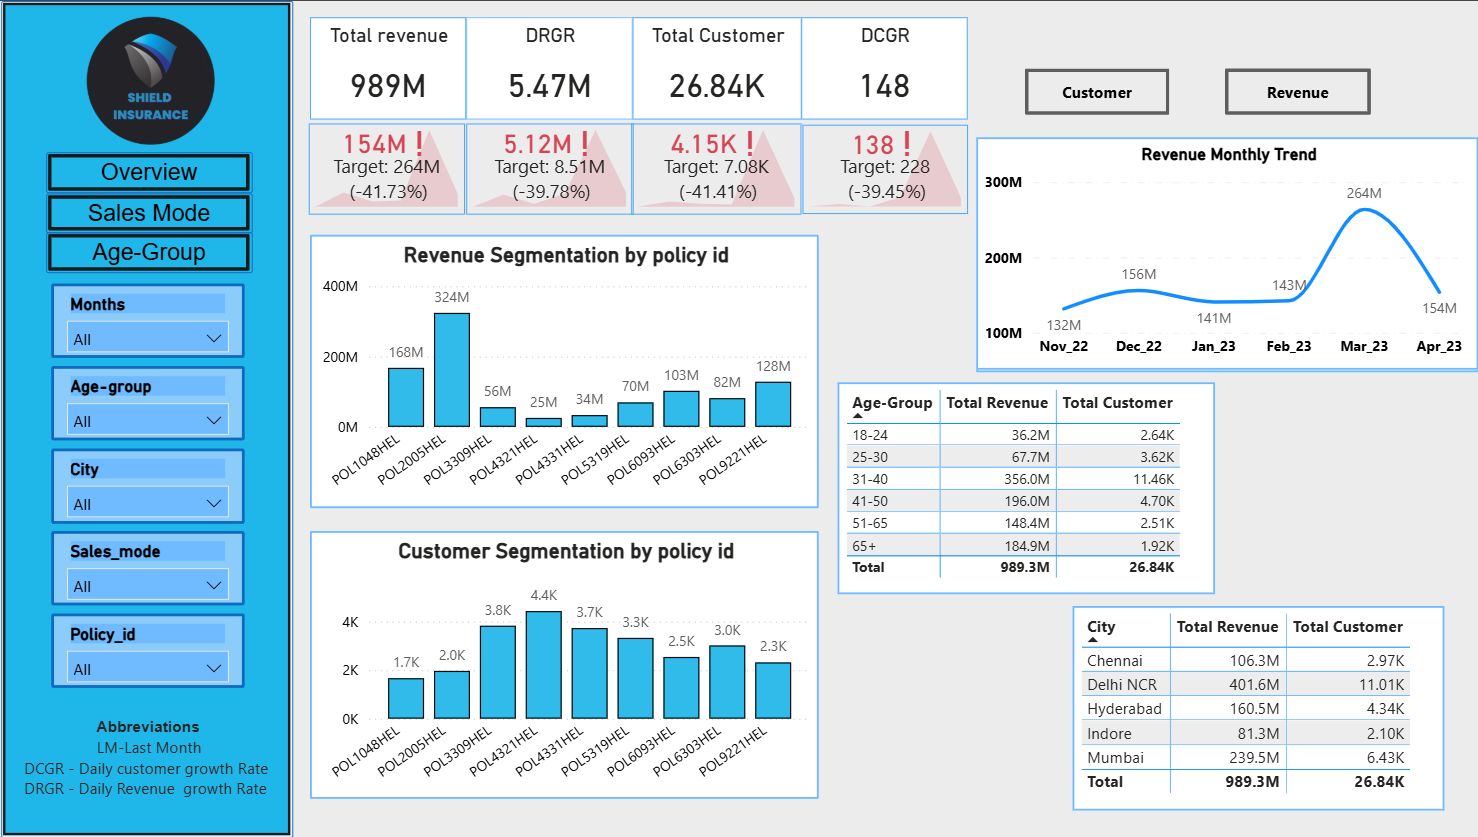

Layout of this report page (visuals, bound fields, positions):
{"tool":"powerbi","page":{"name":"Overview","canvas":[1280,720],"ordinal":1},"visuals":[{"type":"shape","box":[10,0,251,720],"z":0},{"type":"image","box":[46.5,8.6,183.4,119.8],"z":1000},{"type":"actionButton","box":[48.9,129.6,177.3,35.5],"z":2000},{"type":"actionButton","box":[48.9,165.1,177.3,34.2],"z":3000},{"type":"actionButton","box":[48.9,199.3,177.3,35.5],"z":4000},{"type":"slicer","fields":{"Values":["dim_date.mmm_yy"]},"box":[53,243,166,64],"z":5000},{"type":"slicer","fields":{"Values":["dim_customer.AgeGroup"]},"box":[53,313.8,166,64],"z":6000},{"type":"slicer","fields":{"Values":["dim_customer.city"]},"box":[53,384.5,166,65],"z":7000},{"type":"slicer","fields":{"Values":["fact_premiums.sales_mode"]},"box":[53,456.2,166,64],"z":8000},{"type":"slicer","fields":{"Values":["fact_premiums.policy_id"]},"box":[53,527,166,64],"z":9000},{"type":"textbox","box":[16.9,609.3,237.7,86.9],"z":10000},{"type":"card","title":"Total revenue","fields":{"Values":["Key metrics.Total Revenue"]},"box":[275.1,13.5,134.5,88],"z":11000},{"type":"card","title":"DRGR","fields":{"Values":["Key metrics.DRGR"]},"box":[409.6,13.5,143.1,88],"z":12000},{"type":"card","title":"Total Customer","fields":{"Values":["Key metrics.Total Customer"]},"box":[552.7,13.5,145.5,88],"z":13000},{"type":"card","title":"DCGR","fields":{"Values":["Key metrics.DCGR"]},"box":[698.2,13.5,143.1,88],"z":14000},{"type":"tableEx","fields":{"Values":["dim_customer.AgeGroup","Key metrics.Total Revenue","Key metrics.Total Customer"]},"box":[728.7,328.2,324.5,182.2],"z":15000},{"type":"clusteredColumnChart","title":"Revenue Segmentation by policy id","fields":{"Category":["fact_premiums.policy_id"],"Y":["Key metrics.Total Revenue"]},"box":[275.1,201.5,437.9,235.3],"z":16000},{"type":"clusteredColumnChart","title":"Customer Segmentation by policy id","fields":{"Category":["fact_premiums.policy_id"],"Y":["Key metrics.Total Customer"]},"box":[275.1,456,437.9,230.4],"z":17000},{"type":"tableEx","fields":{"Values":["dim_customer.city","Key metrics.Total Revenue","Key metrics.Total Customer"]},"box":[931.4,520,319.7,176.1],"z":18000},{"type":"lineChart","title":"Customer Monthly Trend","fields":{"Y":["Key metrics.Total Customer"],"Category":["DateTable.YearMonth"]},"box":[848.1,119.4,431.9,200.3],"z":19000},{"type":"lineChart","title":"Revenue Monthly Trend","fields":{"Y":["Key metrics.Total Revenue"],"Category":["DateTable.YearMonth"]},"box":[848.1,117,431.9,200.3],"z":20000},{"type":"actionButton","title":"Button_Customer","box":[890.4,57.9,124.3,39.8],"z":21000},{"type":"actionButton","title":"fgwe","box":[1062.9,57.9,125.5,39.8],"z":22000},{"type":"kpi","fields":{"Indicator":["Key metrics.Total Revenue"],"Goal":["Key metrics.LM Revenue"],"TrendLine":["dim_date.mmm_yy"]},"box":[274.6,105,134.6,78.1],"z":23000},{"type":"kpi","fields":{"Goal":["Key metrics.LM DRGR"],"TrendLine":["dim_date.mmm_yy"],"Indicator":["Key metrics.DRGR"]},"box":[409.3,105,144,78.1],"z":24000},{"type":"kpi","fields":{"Goal":["Key metrics.LM Customer"],"TrendLine":["dim_date.mmm_yy"],"Indicator":["Key metrics.Total Customer"]},"box":[552,105,146.7,78.1],"z":25000},{"type":"kpi","fields":{"Goal":["Key metrics.LM DCGR"],"TrendLine":["dim_date.mmm_yy"],"Indicator":["Key metrics.DCGR"]},"box":[698.7,106.4,142.7,76.7],"z":26000}]}

Visuals, with their boxes in screenshot pixels (x1, y1, x2, y2), scaled from the page's 1280x720 canvas onto the 1478x837 screenshot:
shape: {"x1": 12, "y1": 0, "x2": 301, "y2": 836}
image: {"x1": 54, "y1": 10, "x2": 265, "y2": 149}
actionButton: {"x1": 56, "y1": 151, "x2": 261, "y2": 192}
actionButton: {"x1": 56, "y1": 192, "x2": 261, "y2": 232}
actionButton: {"x1": 56, "y1": 232, "x2": 261, "y2": 273}
slicer - dim_date.mmm_yy: {"x1": 61, "y1": 282, "x2": 253, "y2": 357}
slicer - dim_customer.AgeGroup: {"x1": 61, "y1": 365, "x2": 253, "y2": 439}
slicer - dim_customer.city: {"x1": 61, "y1": 447, "x2": 253, "y2": 523}
slicer - fact_premiums.sales_mode: {"x1": 61, "y1": 530, "x2": 253, "y2": 605}
slicer - fact_premiums.policy_id: {"x1": 61, "y1": 613, "x2": 253, "y2": 687}
textbox: {"x1": 20, "y1": 708, "x2": 294, "y2": 809}
"Total revenue" card: {"x1": 318, "y1": 16, "x2": 473, "y2": 118}
"DRGR" card: {"x1": 473, "y1": 16, "x2": 638, "y2": 118}
"Total Customer" card: {"x1": 638, "y1": 16, "x2": 806, "y2": 118}
"DCGR" card: {"x1": 806, "y1": 16, "x2": 971, "y2": 118}
tableEx - dim_customer.AgeGroup x Key metrics.Total Revenue: {"x1": 841, "y1": 382, "x2": 1216, "y2": 593}
"Revenue Segmentation by policy id" clusteredColumnChart: {"x1": 318, "y1": 234, "x2": 823, "y2": 508}
"Customer Segmentation by policy id" clusteredColumnChart: {"x1": 318, "y1": 530, "x2": 823, "y2": 798}
tableEx - dim_customer.city x Key metrics.Total Revenue: {"x1": 1075, "y1": 604, "x2": 1445, "y2": 809}
"Customer Monthly Trend" lineChart: {"x1": 979, "y1": 139, "x2": 1477, "y2": 372}
"Revenue Monthly Trend" lineChart: {"x1": 979, "y1": 136, "x2": 1477, "y2": 369}
"Button_Customer" actionButton: {"x1": 1028, "y1": 67, "x2": 1172, "y2": 114}
"fgwe" actionButton: {"x1": 1227, "y1": 67, "x2": 1372, "y2": 114}
kpi - Key metrics.Total Revenue x Key metrics.LM Revenue: {"x1": 317, "y1": 122, "x2": 472, "y2": 213}
kpi - Key metrics.LM DRGR x dim_date.mmm_yy: {"x1": 473, "y1": 122, "x2": 639, "y2": 213}
kpi - Key metrics.LM Customer x dim_date.mmm_yy: {"x1": 637, "y1": 122, "x2": 807, "y2": 213}
kpi - Key metrics.LM DCGR x dim_date.mmm_yy: {"x1": 807, "y1": 124, "x2": 972, "y2": 213}
